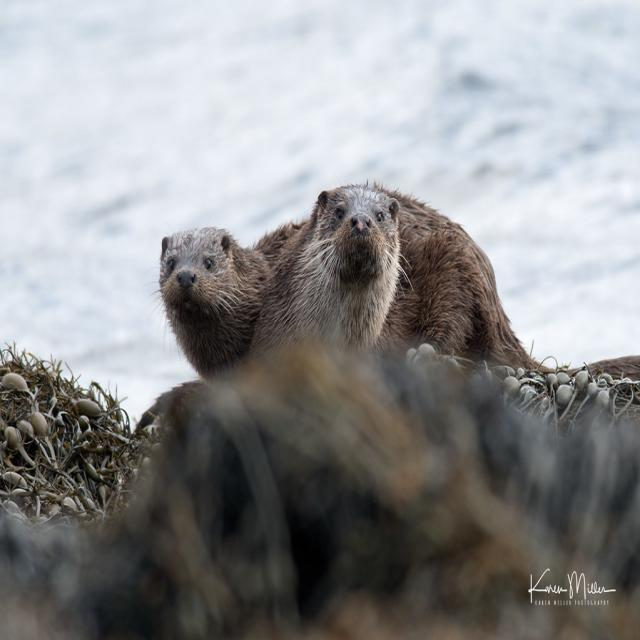otter: (161, 193, 516, 375), (255, 188, 401, 358)
